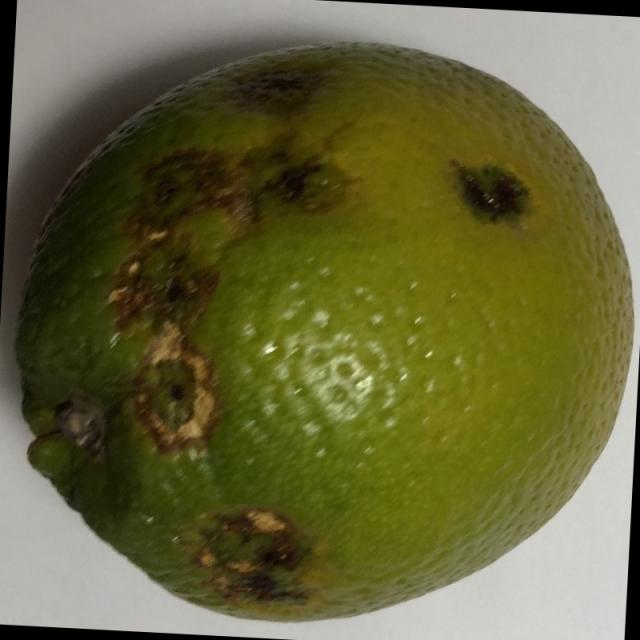canker: (16, 24, 636, 640)
